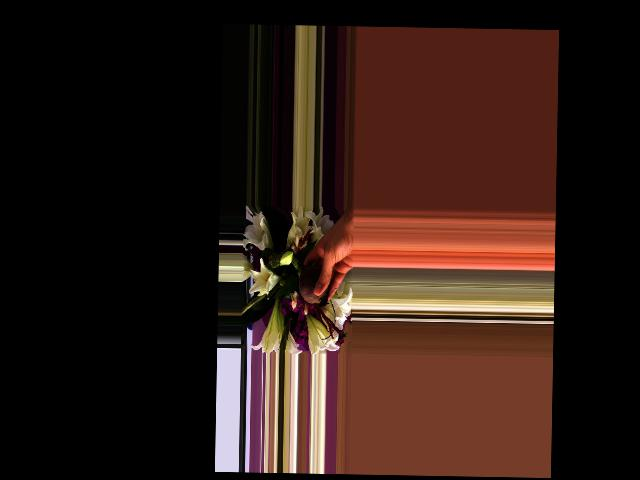beet: (291, 254, 329, 307)
